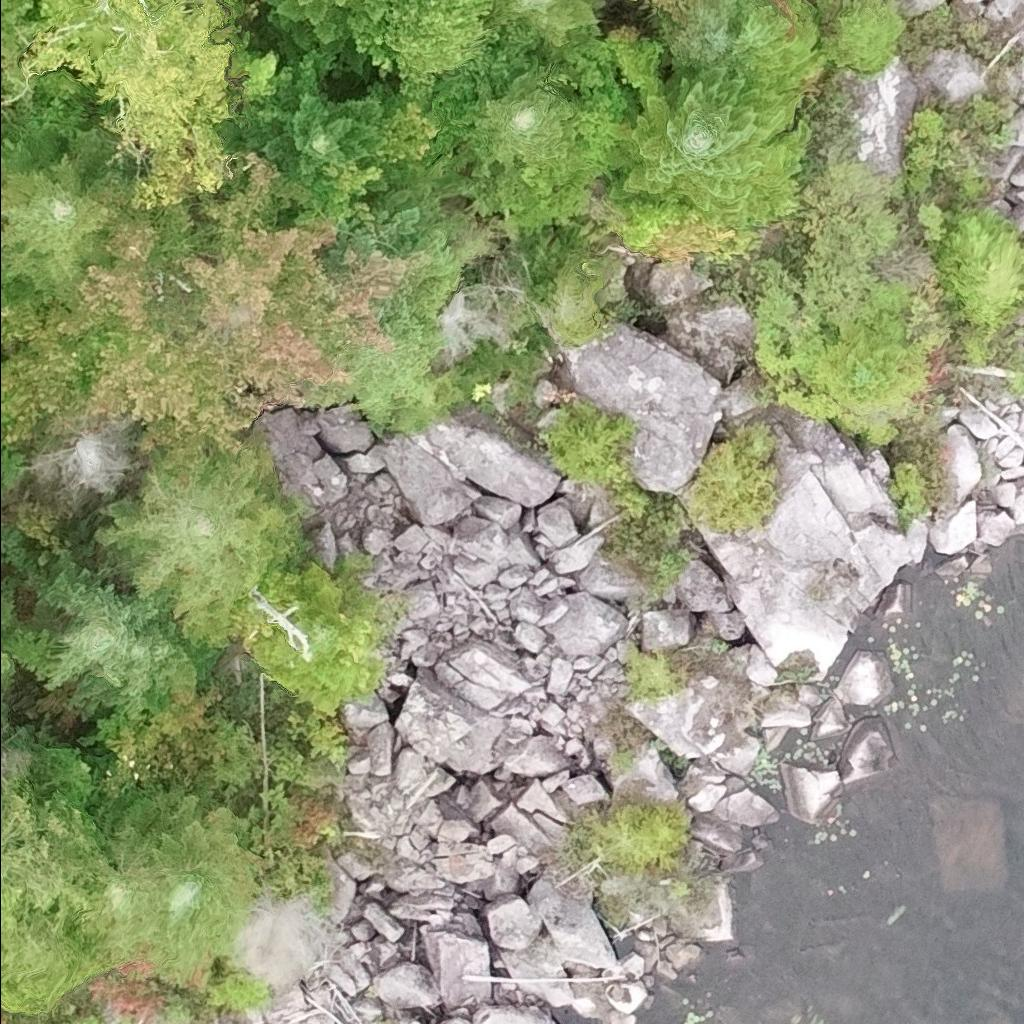crown: (23, 0, 239, 210), (96, 442, 299, 647), (182, 227, 354, 462), (32, 548, 215, 725), (60, 207, 203, 431), (616, 65, 809, 223), (221, 50, 385, 208), (138, 771, 258, 983), (0, 782, 109, 1008), (305, 270, 454, 435), (0, 121, 132, 306), (278, 221, 432, 352), (354, 0, 501, 100), (465, 53, 583, 170), (77, 795, 155, 960), (362, 74, 473, 180), (547, 35, 637, 159), (319, 190, 442, 273), (935, 211, 1023, 326), (33, 412, 136, 507), (264, 0, 387, 75), (201, 151, 288, 253), (812, 313, 907, 402), (725, 0, 817, 85), (527, 250, 597, 345), (610, 184, 702, 251), (657, 0, 734, 77), (485, 0, 605, 46), (651, 215, 761, 256), (603, 27, 665, 99), (233, 46, 284, 109), (0, 163, 15, 210), (0, 646, 11, 686), (0, 589, 9, 621), (628, 0, 641, 3)
